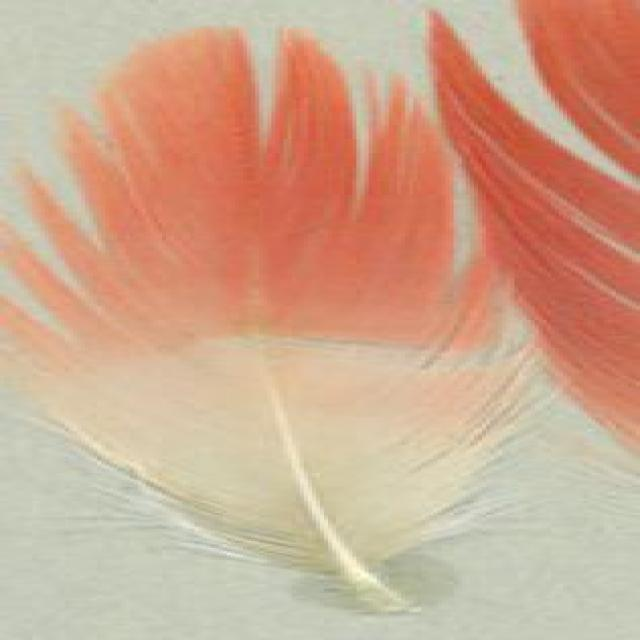feather: (0, 19, 574, 616)
